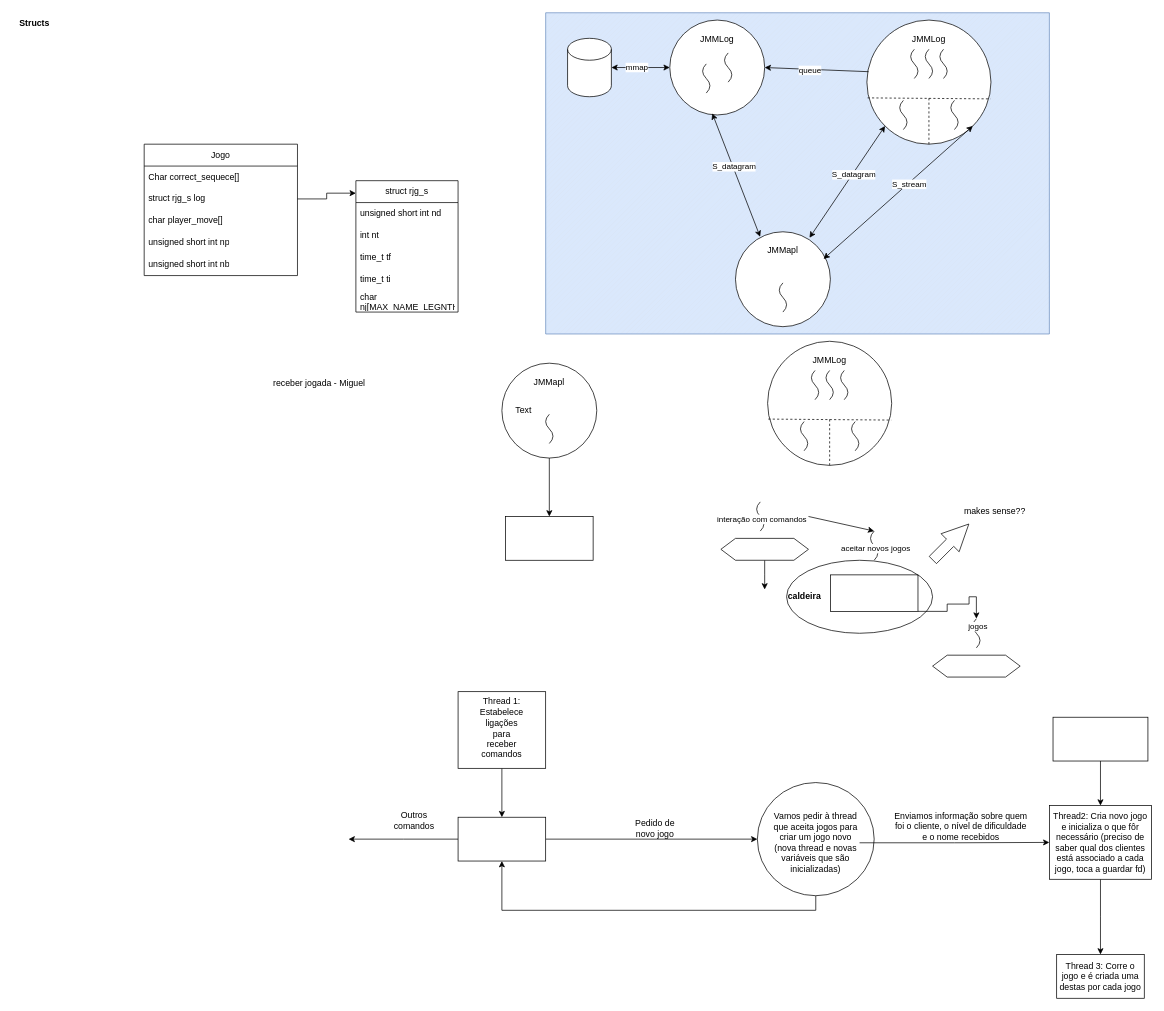
Some shapes in this 1164 by 1011 pixel diagram are drawn without their labels. Each missing label, with the box of its shape:
Datagram_1: (505, 516, 593, 560)
Escuta datagrama: (720, 538, 808, 560)
escuta stream: (932, 654, 1020, 677)
set up do jogo e criar + threads + canais de comumicação: (830, 574, 918, 611)
Thread 1: Cria thread 2: (1052, 716, 1148, 761)
Thread 1: Espera comandos: (457, 817, 546, 861)
